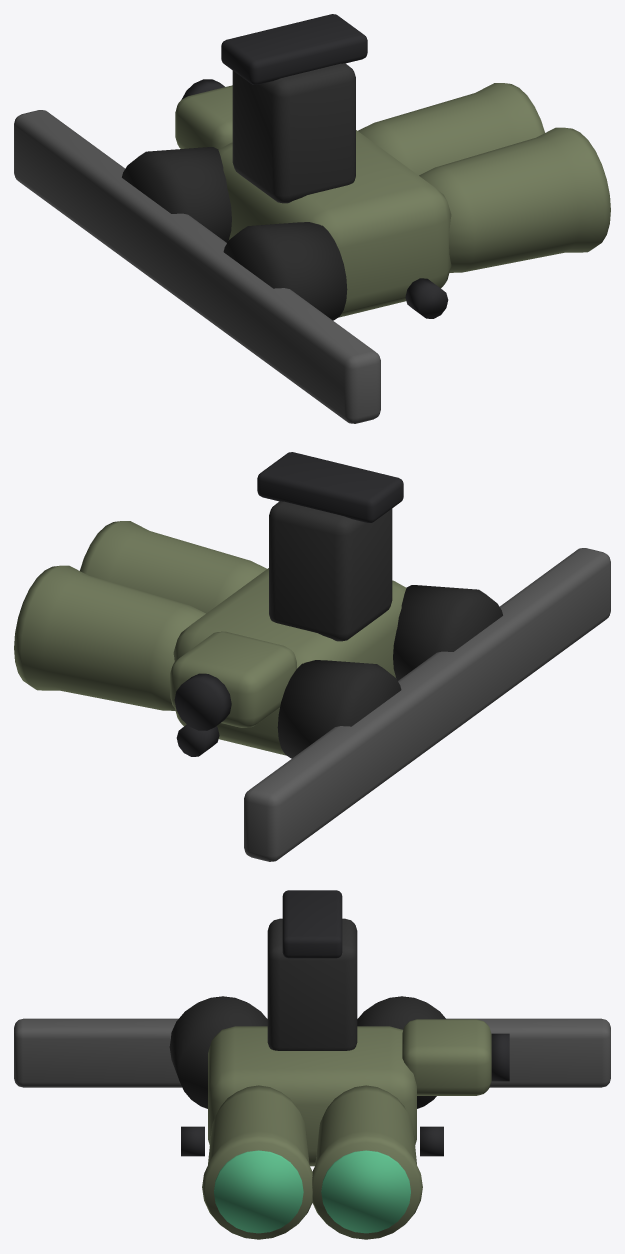
File: SM_NVGoggles.glb
3 renders of one model, top to bottom at view 1: azimuth 30°, elevation 25°; view 2: azimuth 150°, elevation 25°; view 3: azimuth 270°, elevation 25°, orthographic. The views are drawn at different scales.
Parts seen in each view (by area): view 1: SM_NVGoggles; view 2: SM_NVGoggles; view 3: SM_NVGoggles.
Part boxes in pixels (<box>): SM_NVGoggles: <box>14,14,610,423</box>; SM_NVGoggles: <box>14,452,610,861</box>; SM_NVGoggles: <box>14,890,610,1239</box>.
Bounding box in the file's own units: 0.1275 × 0.081 × 0.2.
